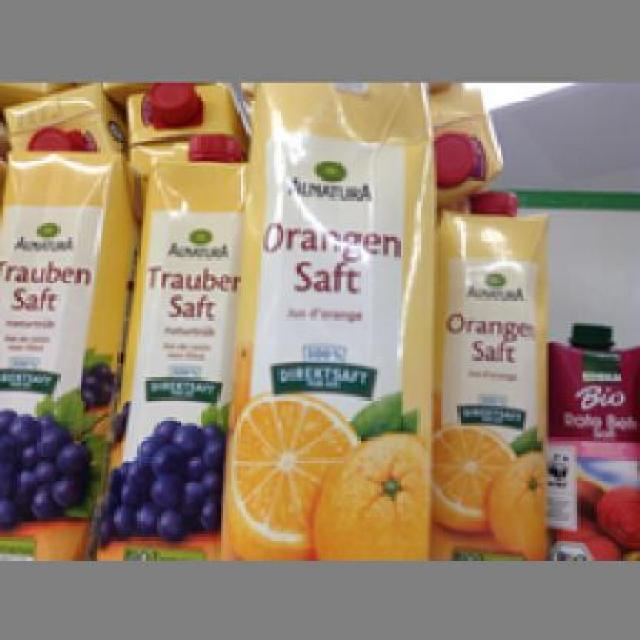Juice: (217, 79, 434, 555), (86, 128, 243, 554), (0, 126, 143, 554), (428, 188, 546, 554), (542, 317, 638, 552)
